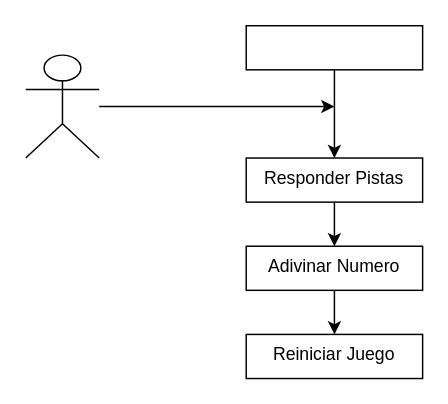
The diagram is 448 pixels wide and 404 high, and some of its shapes have lost their labels. Each missing label, with the centre of its shape:
"Pensar Numero" goes at pixel 334 47.
"Usuario" goes at pixel 61 106.
